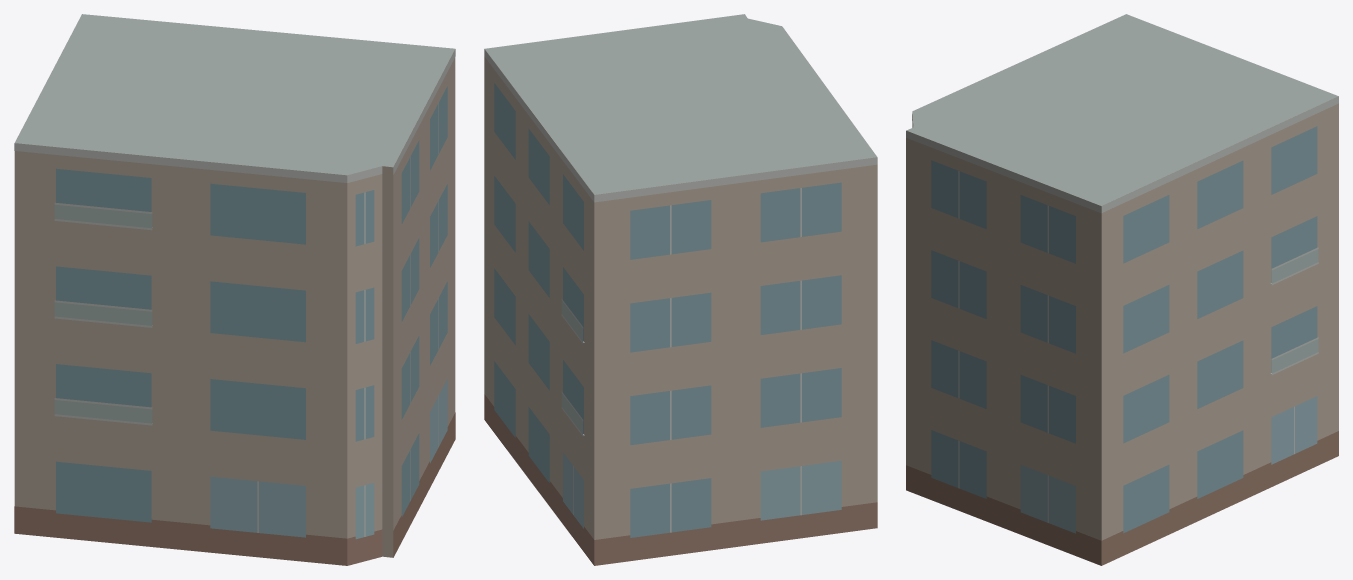
File: survey-upis-32880577.glb
The picture shows the model from 3 angles, left to right: view 1: azimuth 30°, elevation 25°; view 2: azimuth 150°, elevation 25°; view 3: azimuth 270°, elevation 25°; orthographic projection. The views are drawn at different scales.
Parts seen in each view (by area): view 1: survey-upis-32880577.tmp; view 2: survey-upis-32880577.tmp; view 3: survey-upis-32880577.tmp.
Boxes of the visible parts, x1,y1,x2,y2 form: survey-upis-32880577.tmp: (14,14,455,565); survey-upis-32880577.tmp: (484,14,877,565); survey-upis-32880577.tmp: (906,14,1338,565).
Bounding box in the file's own units: 13.98 × 12.2 × 13.31.
